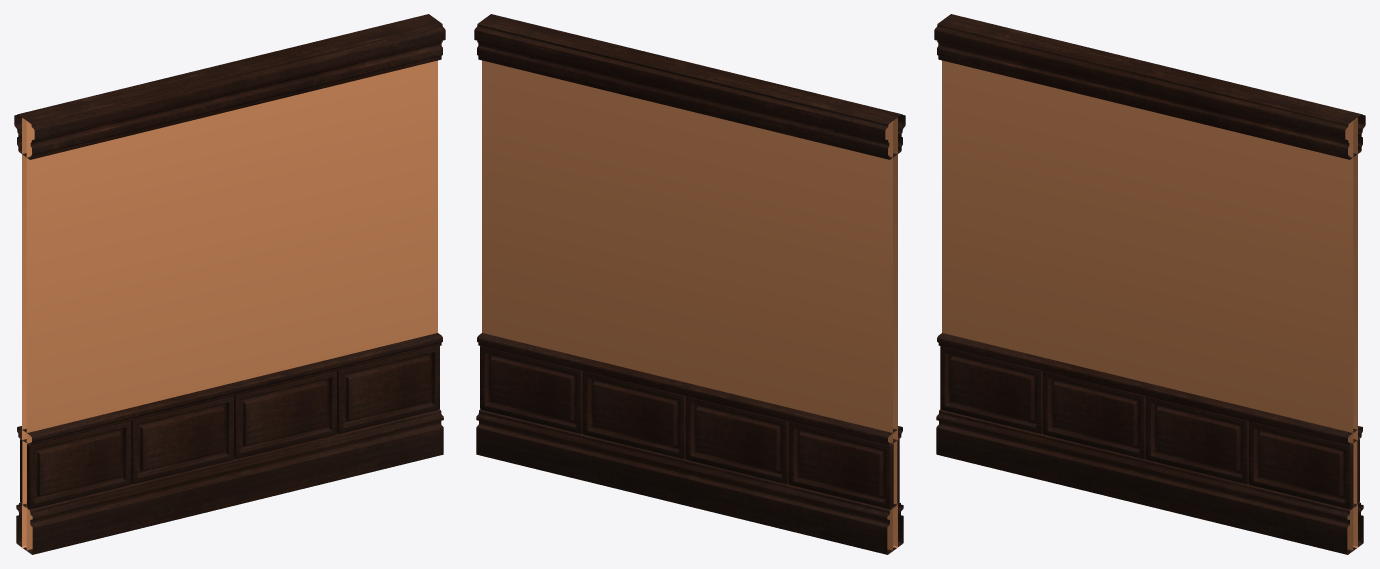
Rendered from SK7 WALL 2 INT.fbx.
3 renders of one model, left to right at view 1: azimuth 30°, elevation 25°; view 2: azimuth 150°, elevation 25°; view 3: azimuth 330°, elevation 25°, orthographic.
Parts seen in each view (by area): view 1: SK7 WALL 2 INT; view 2: SK7 WALL 2 INT; view 3: SK7 WALL 2 INT.
Part boxes in pixels (bbox=[...]): SK7 WALL 2 INT: bbox=[14, 14, 445, 554]; SK7 WALL 2 INT: bbox=[474, 14, 905, 554]; SK7 WALL 2 INT: bbox=[934, 14, 1365, 554].
Size of the model in its own units: 400 by 400 by 33.96.
